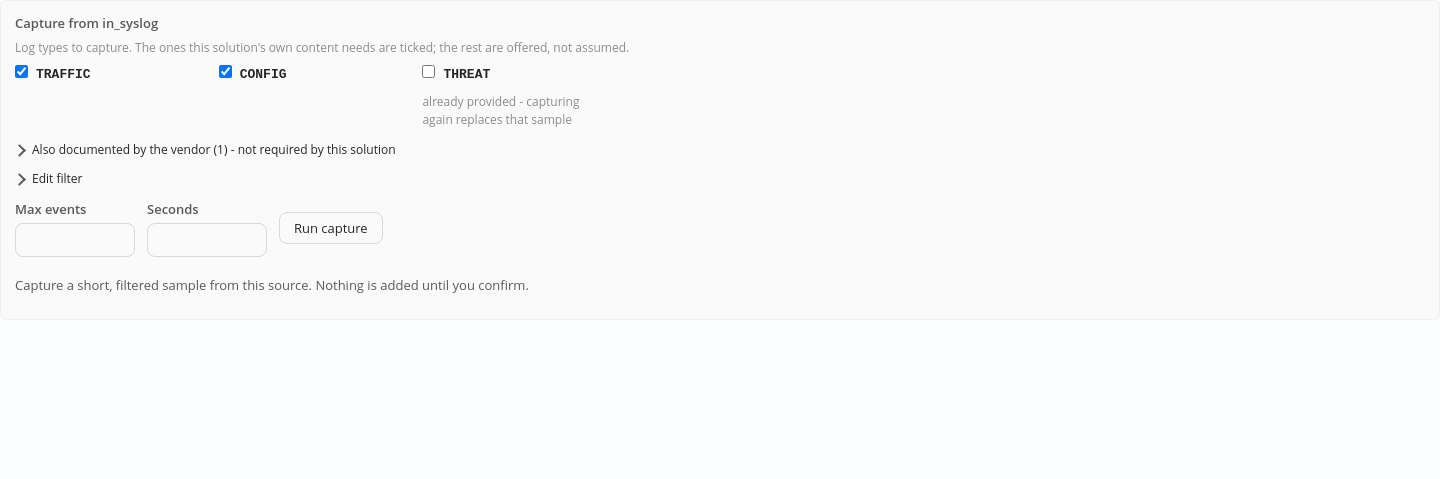
Test: CapturePanel - what the commit reports afterwards › clears the summary when a new capture starts
Click the button with class "run-button" at (331, 228), box left=279, top=212, right=383, bottom=244
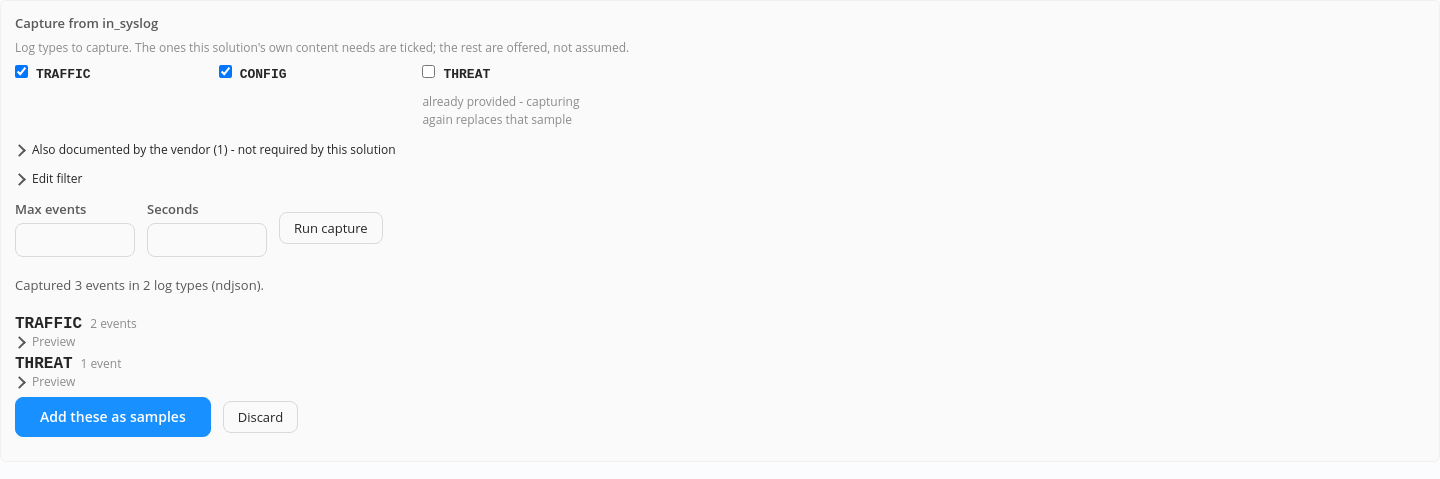
Click the button with class "next-action-button" at (113, 417), box left=15, top=397, right=211, bottom=437
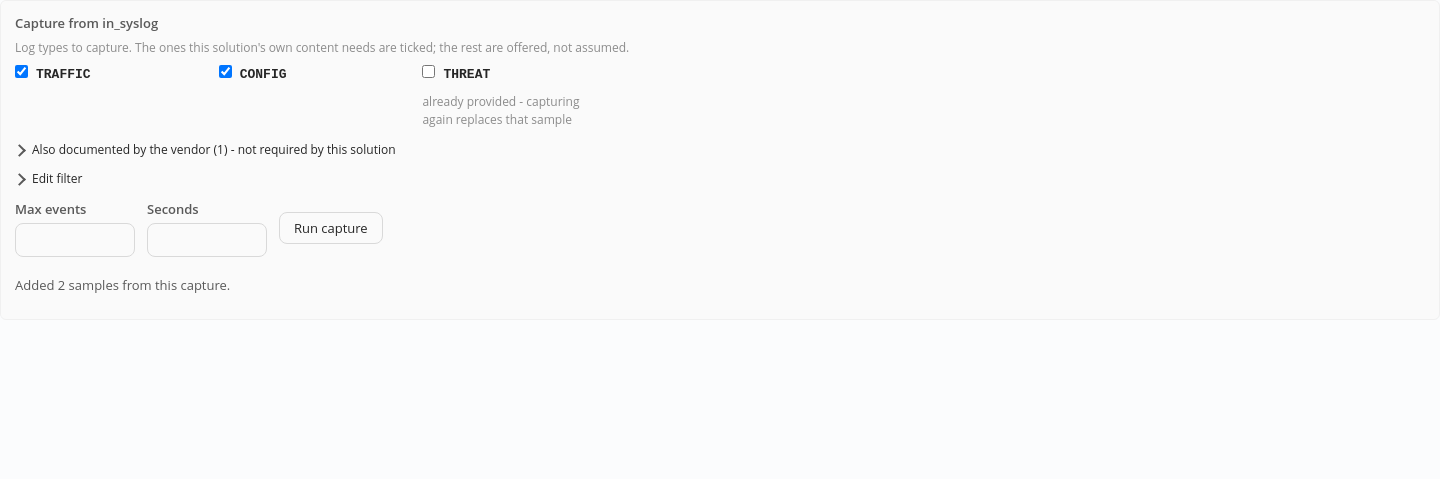
Expected: the number of elements with test id "capture-outcome" is 1, left=15, top=276, right=230, bottom=294
Click the button with class "run-button" at (331, 228), box left=279, top=212, right=383, bottom=244
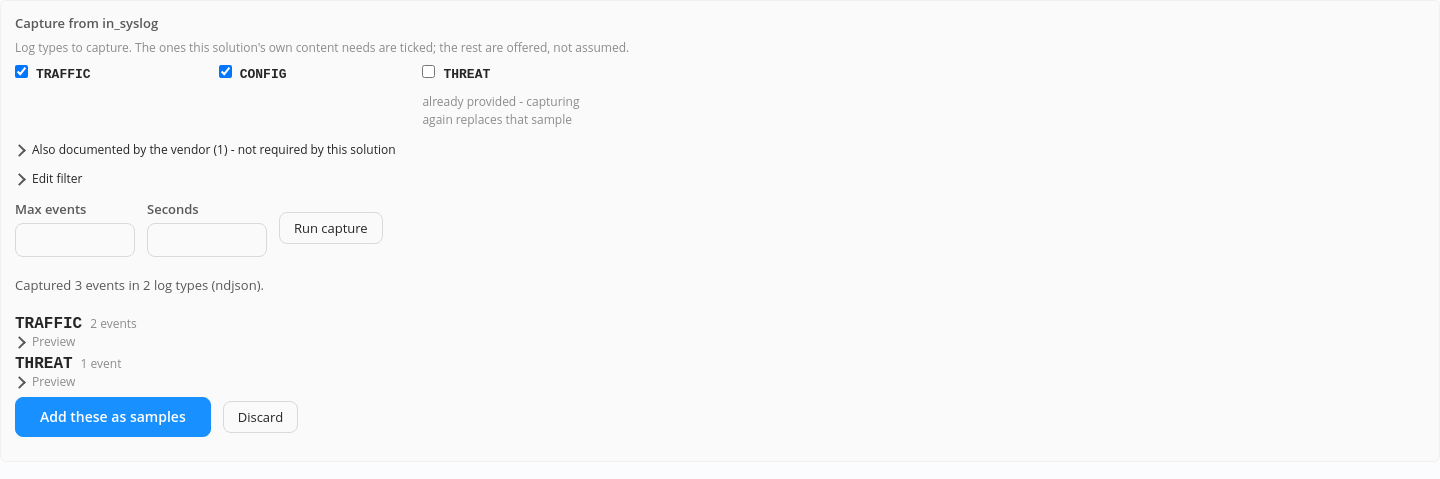
Expected: no elements with test id "capture-outcome" are shown
Expected: the text "Captured 3 events in 2 log types (ndjson)." is shown, left=15, top=276, right=264, bottom=294
